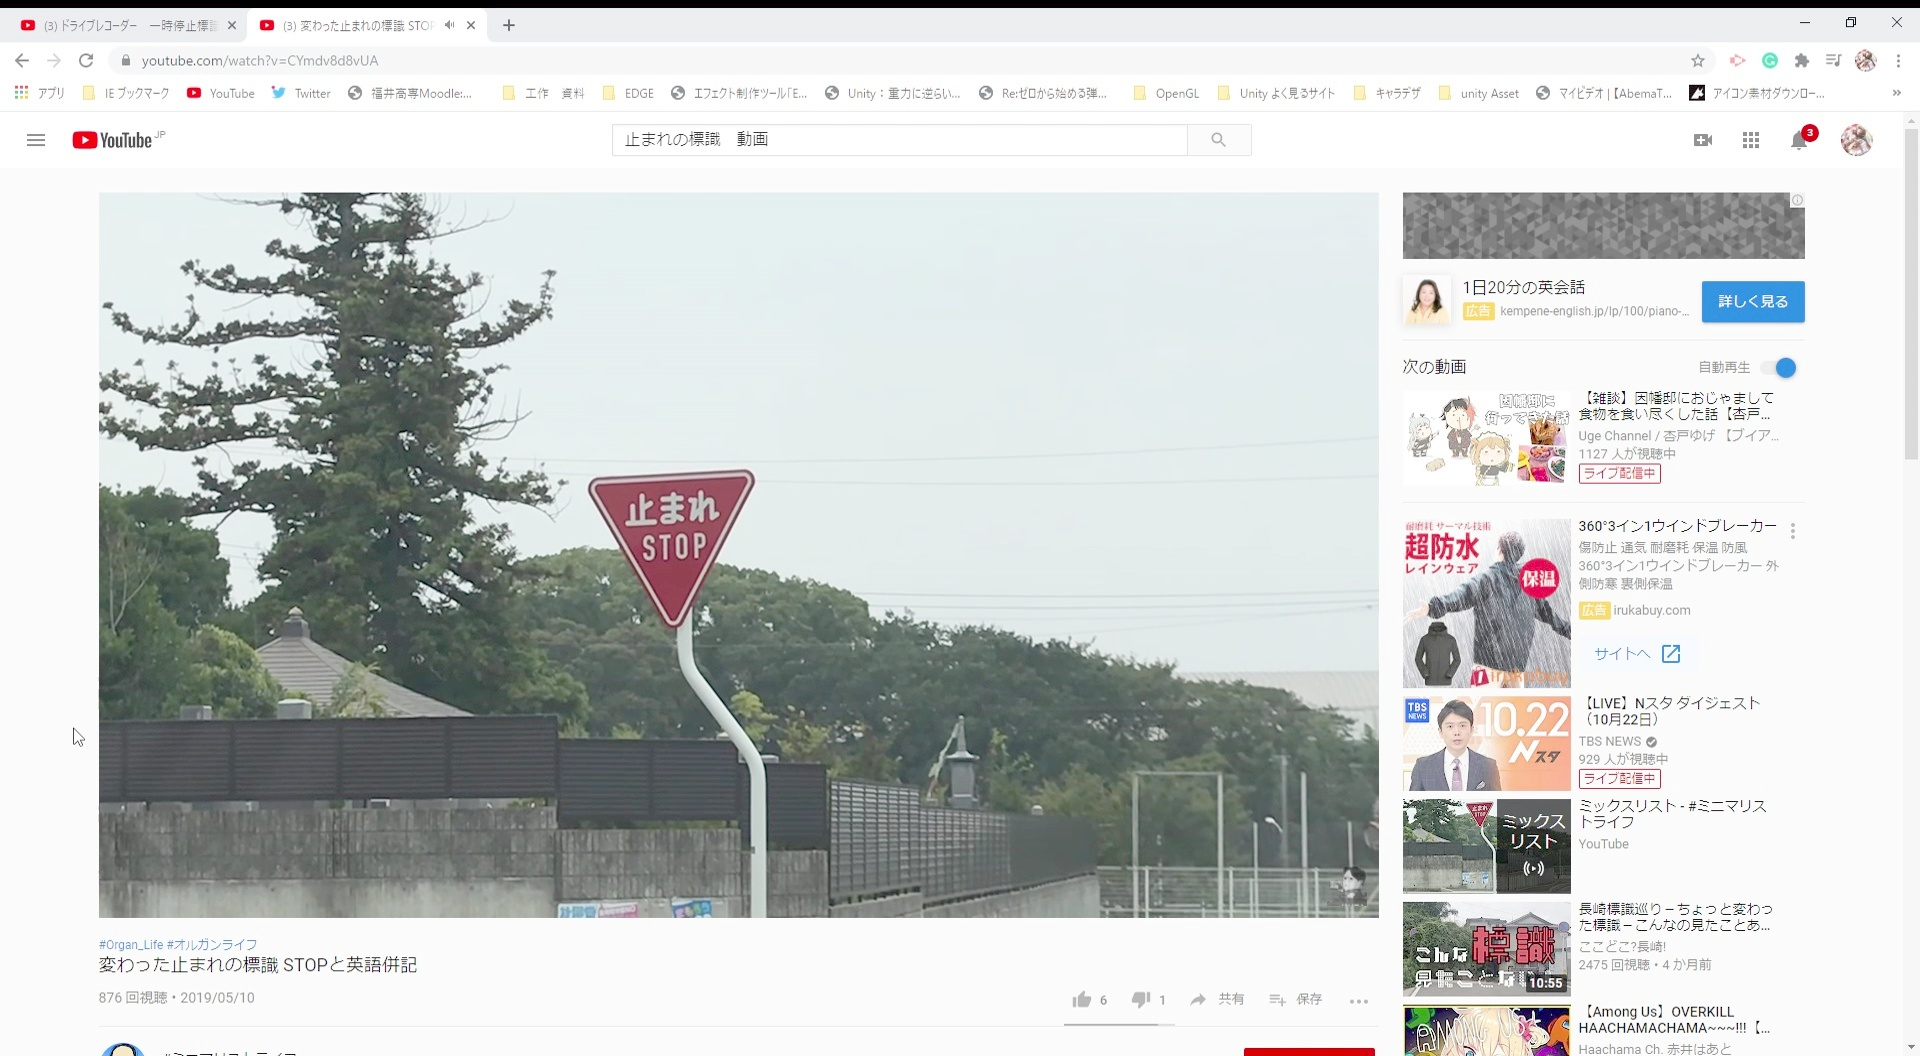Regulatory_sign_triangle: (572, 454, 763, 639)
